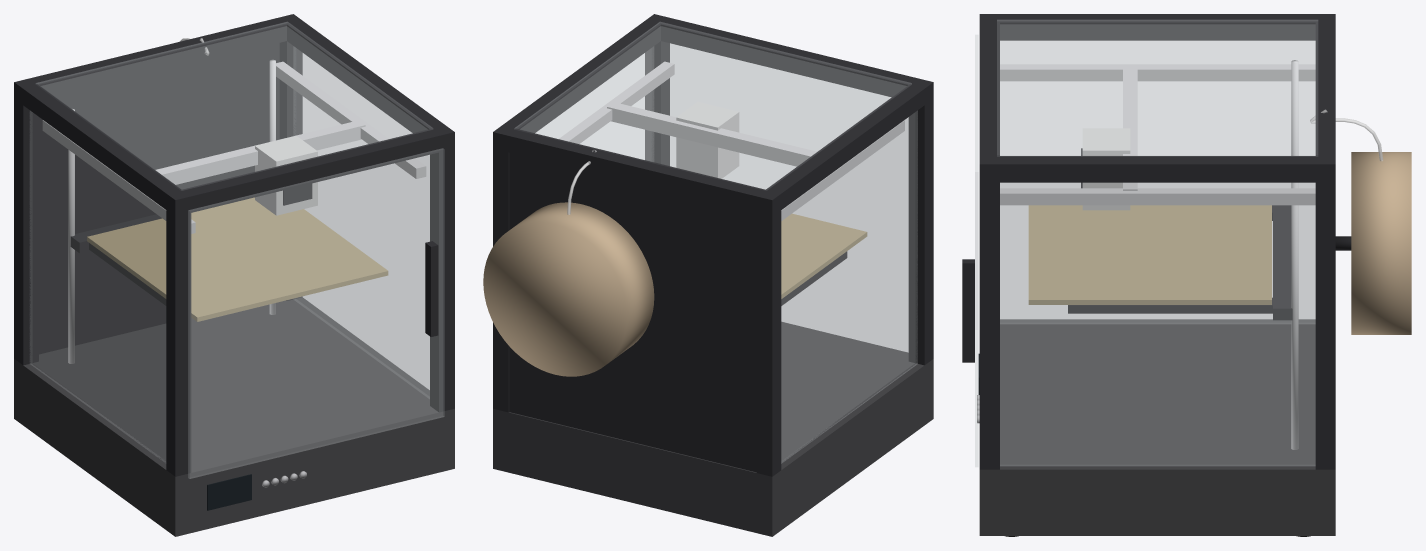
Rendered from p1s-hand.glb.
3 renders of one model, left to right at view 1: azimuth 30°, elevation 25°; view 2: azimuth 150°, elevation 25°; view 3: azimuth 270°, elevation 25°, orthographic. The views are drawn at different scales.
Visible parts, largest first — view 1: door-glass, base, lid-glass, side-glass, back-panel, side-glass.001, bed-plate, post, rim-front, rim-back, post.001, post.002 (+13 smaller); view 2: back-panel, base, lid-glass, side-glass, door-glass, spool, post.001, rim-back, post, rim-front, rim-side, rim-side.001 (+8 smaller); view 3: side-glass.001, base, lid-glass, side-glass, bed-plate, spool, rim-side.001, rim-side, post.002, post.003, y-rail.001, y-rail (+10 smaller).
Boxes of the visible parts, <box> form: door-glass: <box>188,148,444,478</box>; base: <box>14,297,454,536</box>; lid-glass: <box>36,22,432,190</box>; side-glass: <box>30,111,165,462</box>; back-panel: <box>39,43,279,354</box>; side-glass.001: <box>294,47,429,398</box>; bed-plate: <box>87,197,388,321</box>; post: <box>166,190,191,476</box>; rim-front: <box>166,126,454,216</box>; rim-back: <box>14,14,301,97</box>; post.001: <box>14,82,38,365</box>; post.002: <box>430,126,454,412</box>; back-panel: <box>509,152,756,472</box>; base: <box>493,322,933,536</box>; lid-glass: <box>514,22,911,190</box>; side-glass: <box>781,111,917,463</box>; door-glass: <box>670,44,907,351</box>; spool: <box>483,202,654,376</box>; post.001: <box>756,192,781,476</box>; rim-back: <box>493,125,781,213</box>; post: <box>908,88,933,365</box>; rim-front: <box>645,14,933,97</box>; rim-side: <box>756,82,933,212</box>; rim-side.001: <box>498,14,668,135</box>; side-glass.001: <box>1000,183,1315,465</box>; base: <box>979,319,1335,535</box>; lid-glass: <box>997,20,1317,156</box>; side-glass: <box>1000,41,1314,323</box>; bed-plate: <box>1028,205,1271,304</box>; spool: <box>1351,152,1411,334</box>; rim-side.001: <box>980,156,1335,182</box>; rim-side: <box>979,14,1335,40</box>; post.002: <box>979,156,999,469</box>; post.003: <box>1315,156,1335,469</box>; y-rail.001: <box>1000,188,1315,205</box>; y-rail: <box>1000,64,1315,81</box>.
Size of the model in its own units: 0.389 by 0.4617 by 0.491.
